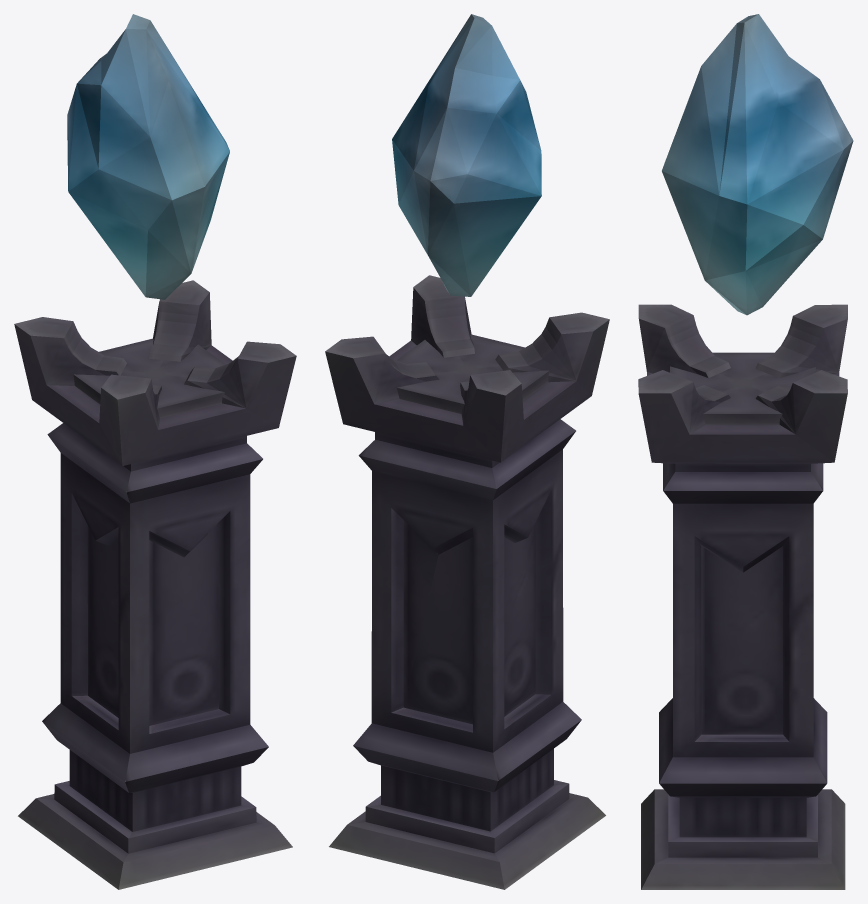
File: 1005_Building_13.FBX
The picture shows the model from 3 angles, left to right: view 1: azimuth 30°, elevation 25°; view 2: azimuth 150°, elevation 25°; view 3: azimuth 270°, elevation 25°; orthographic projection.
Visible parts, largest first — view 1: 1005_Building_13; view 2: 1005_Building_13; view 3: 1005_Building_13.
Part boxes in pixels (x1=…): 1005_Building_13: x1=14, y1=14, x2=296, y2=889; 1005_Building_13: x1=325, y1=14, x2=609, y2=889; 1005_Building_13: x1=638, y1=14, x2=853, y2=889.
Bounding box in the file's own units: 513 × 2232 × 527.
